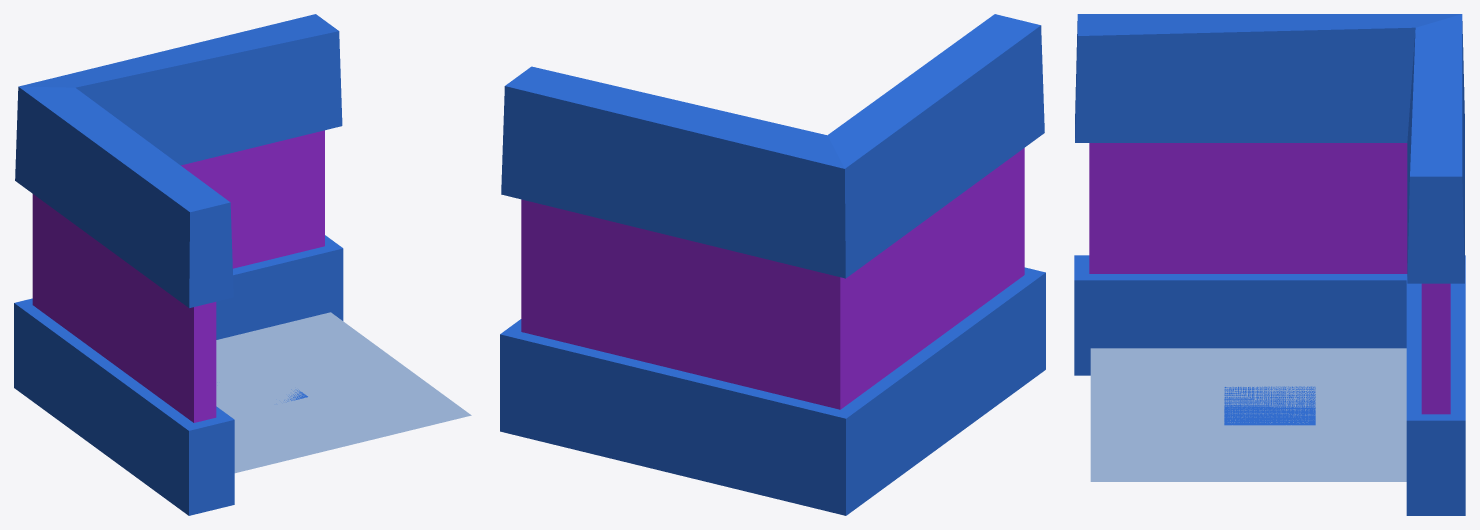
Rendered from temp-room.glb.
3 renders of one model, left to right at view 1: azimuth 30°, elevation 25°; view 2: azimuth 150°, elevation 25°; view 3: azimuth 270°, elevation 25°, orthographic. The views are drawn at different scales.
Visible parts, largest first — view 1: Cube, Plane; view 2: Cube; view 3: Cube, Plane.
Boxes of the visible parts, left/top/right/bottom form: Cube: left=14, top=14, right=343, bottom=515; Plane: left=216, top=312, right=471, bottom=473; Cube: left=500, top=14, right=1045, bottom=515; Cube: left=1074, top=14, right=1465, bottom=515; Plane: left=1090, top=348, right=1406, bottom=481.
Size of what is drawn, in the model's own units: 8.57 by 8.31 by 8.57.
